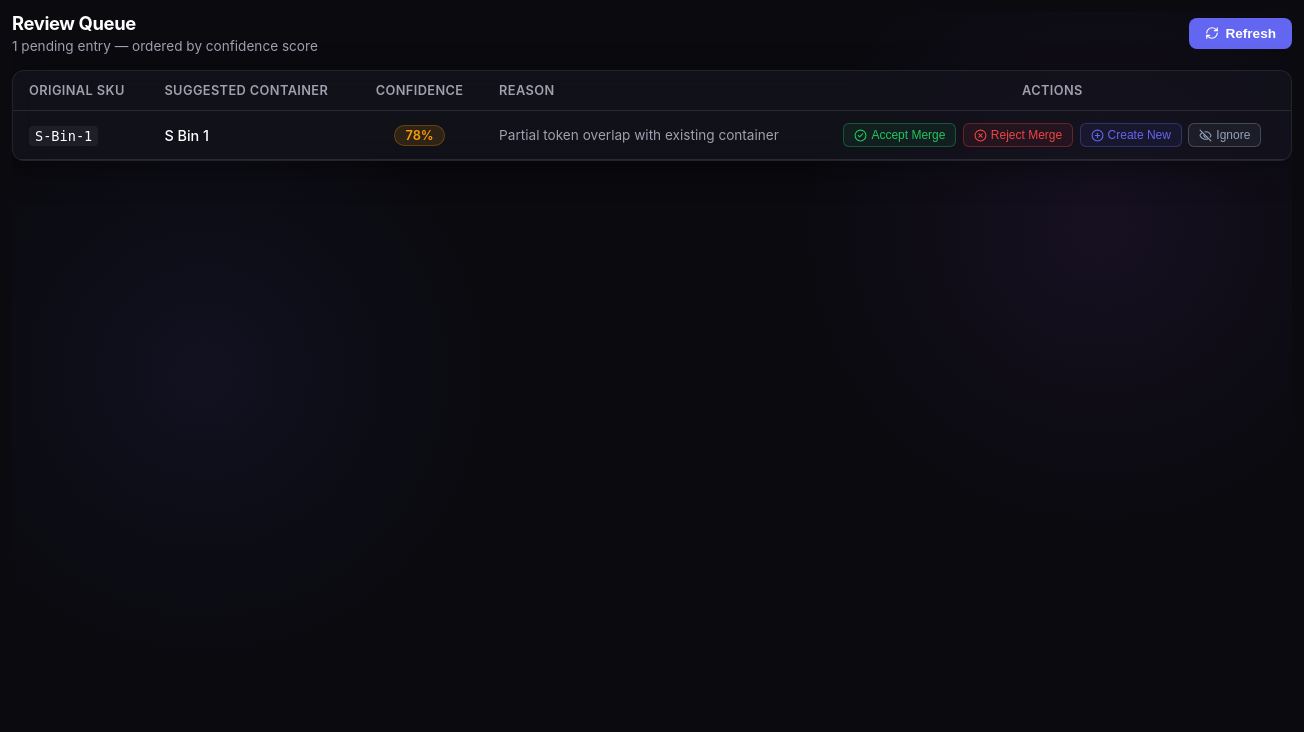
Scenario: ReviewQueue › removes entry from list when already resolved (409)
Expected: the text "S-Bin-1" is shown, x1=29 y1=126 x2=98 y2=146
Click the button titled "Reject Merge" at (1018, 135), box x1=963 y1=123 x2=1073 y2=147
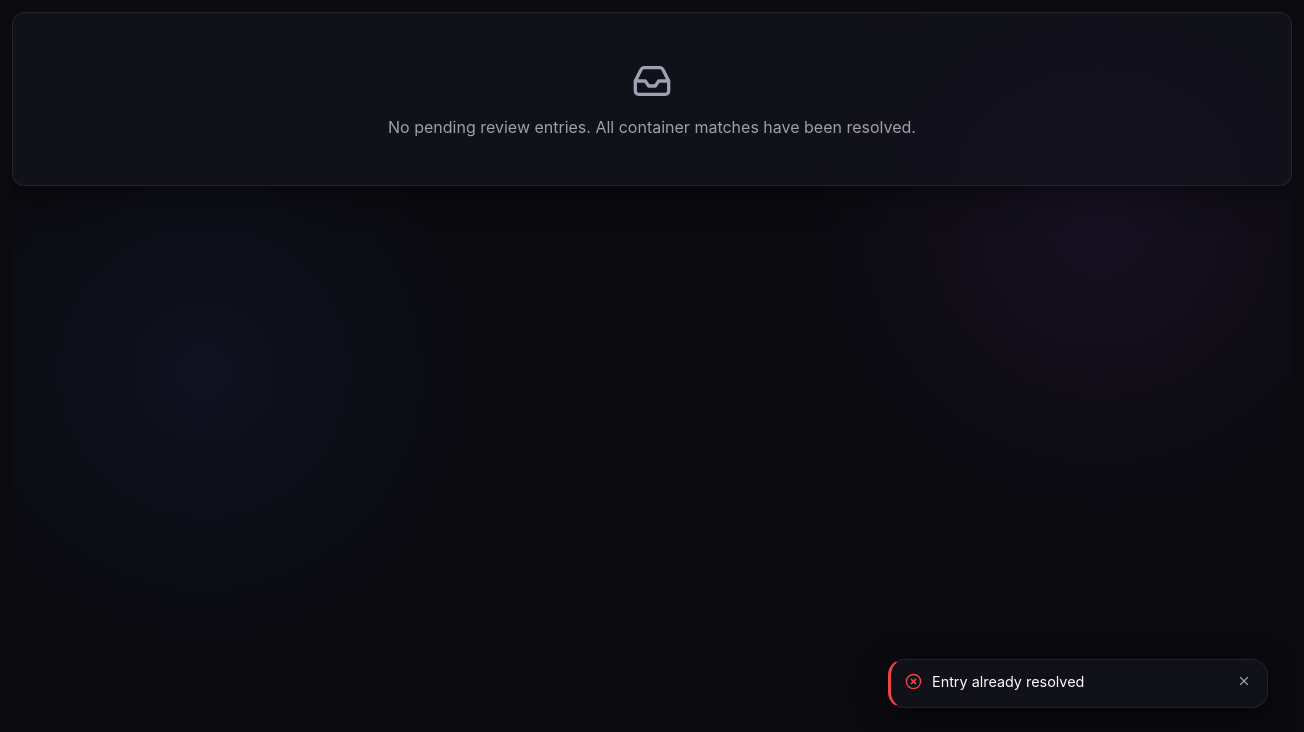
Expected: the text "S-Bin-1" is gone
